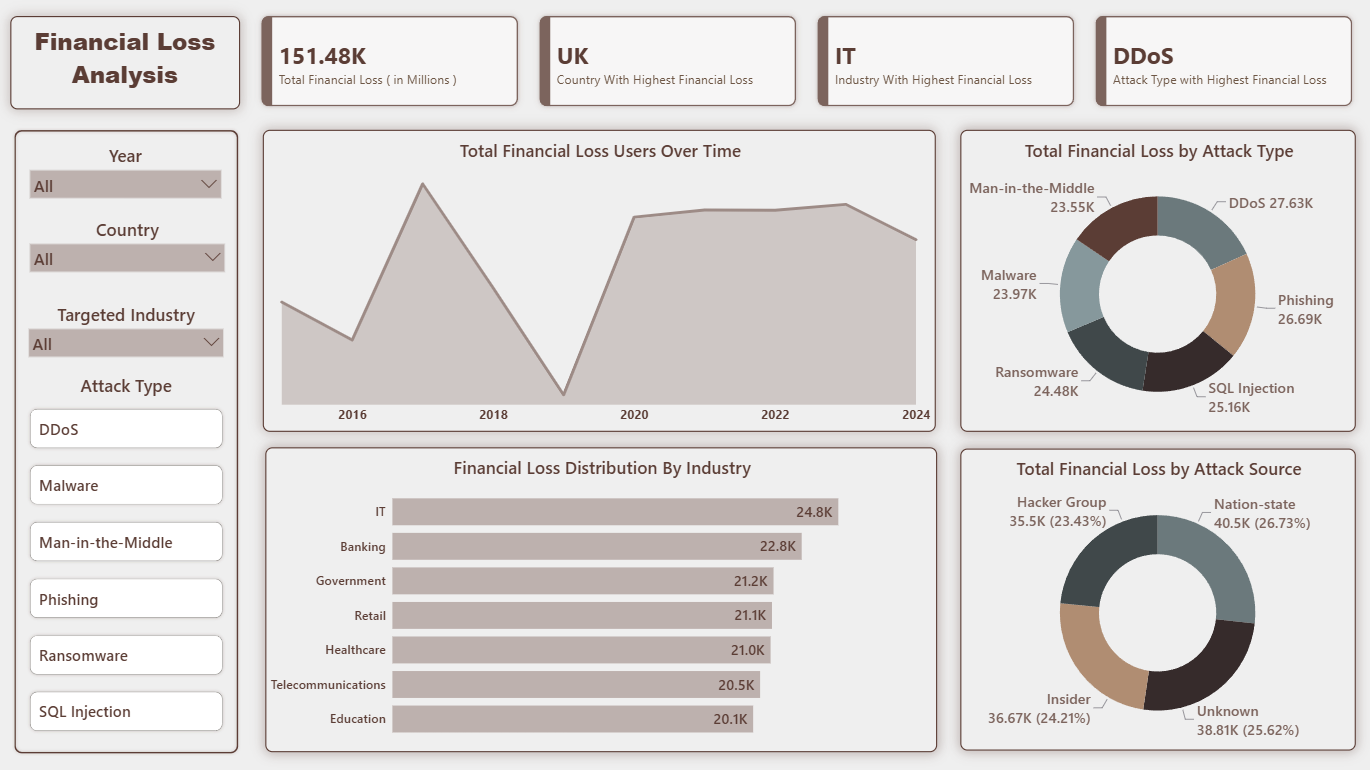

The page's visual inventory and layout, read from the dashboard file:
{"tool":"powerbi","page":{"name":"Financial Loss Analysis","canvas":[1920,1080],"ordinal":2},"visuals":[{"type":"textbox","box":[16.2,27.7,320.8,130.5],"z":0},{"type":"shape","box":[18.1,182.8,320.3,877.7],"z":0,"group":"g1"},{"type":"lineChart","title":"Total Financial Loss Users Over Time","fields":{"Category":["Dataset.Year"],"Y":["All Measures.Total Financial Loss"]},"box":[367.4,186.4,939.2,421.7],"z":1000},{"type":"slicer","title":"Year","fields":{"Values":["Dataset.Year"]},"box":[23.5,195.5,307.6,126.7],"z":1000,"group":"g1"},{"type":"slicer","title":"Country","fields":{"Values":["Dataset.Country"]},"box":[23.5,298.6,313.1,124.9],"z":2000,"group":"g1"},{"type":"barChart","title":"Financial Loss Distribution By Industry","fields":{"Category":["Dataset.Target Industry"],"Y":["All Measures.Total Financial Loss"]},"box":[371,629.8,937.4,425.3],"z":2000},{"type":"donutChart","fields":{"Category":["Dataset.Attack Type"],"Y":["All Measures.Total Financial Loss"]},"box":[1341,186.4,551.9,421.7],"z":3000},{"type":"advancedSlicerVisual","title":"Attack Type","fields":{"Values":["Dataset.Attack Type"]},"box":[21.7,526.6,313.1,521.2],"z":3000,"group":"g1"},{"type":"slicer","title":"Targeted Industry","fields":{"Values":["Dataset.Target Industry"]},"box":[21.7,416.2,313.1,123.1],"z":4000,"group":"g1"},{"type":"donutChart","fields":{"Y":["All Measures.Total Financial Loss"],"Category":["Dataset.Attack Source"]},"box":[1341,631.6,551.9,421.7],"z":4000},{"type":"cardVisual","fields":{"Data":["All Measures.Total Financial Loss","All Measures.Country With Maximum Financial Loss","All Measures.Industry With Highest Financial Loss","All Measures.Attack Type with Highest Financial Loss"]},"box":[338.4,0,1579.8,182.8],"z":5000},{"type":"group","id":"g1","title":"Group 1","box":[18.1,182.8,320.3,877.7],"z":6000}]}

Visuals, with their boxes in screenshot pixels (x1, y1, x2, y2), scaled from the page's 1920x1080 canvas onto the 1370x770 screenshot:
textbox: (12,20,240,113)
shape: (13,130,241,756)
"Total Financial Loss Users Over Time" lineChart: (262,133,932,434)
"Year" slicer: (17,139,236,230)
"Country" slicer: (17,213,240,302)
"Financial Loss Distribution By Industry" barChart: (265,449,934,752)
donutChart - Dataset.Attack Type x All Measures.Total Financial Loss: (957,133,1351,434)
"Attack Type" advancedSlicerVisual: (15,375,239,747)
"Targeted Industry" slicer: (15,297,239,385)
donutChart - All Measures.Total Financial Loss x Dataset.Attack Source: (957,450,1351,751)
cardVisual - All Measures.Total Financial Loss x All Measures.Country With Maximum Financial Loss: (241,0,1369,130)
"Group 1" group: (13,130,241,756)
